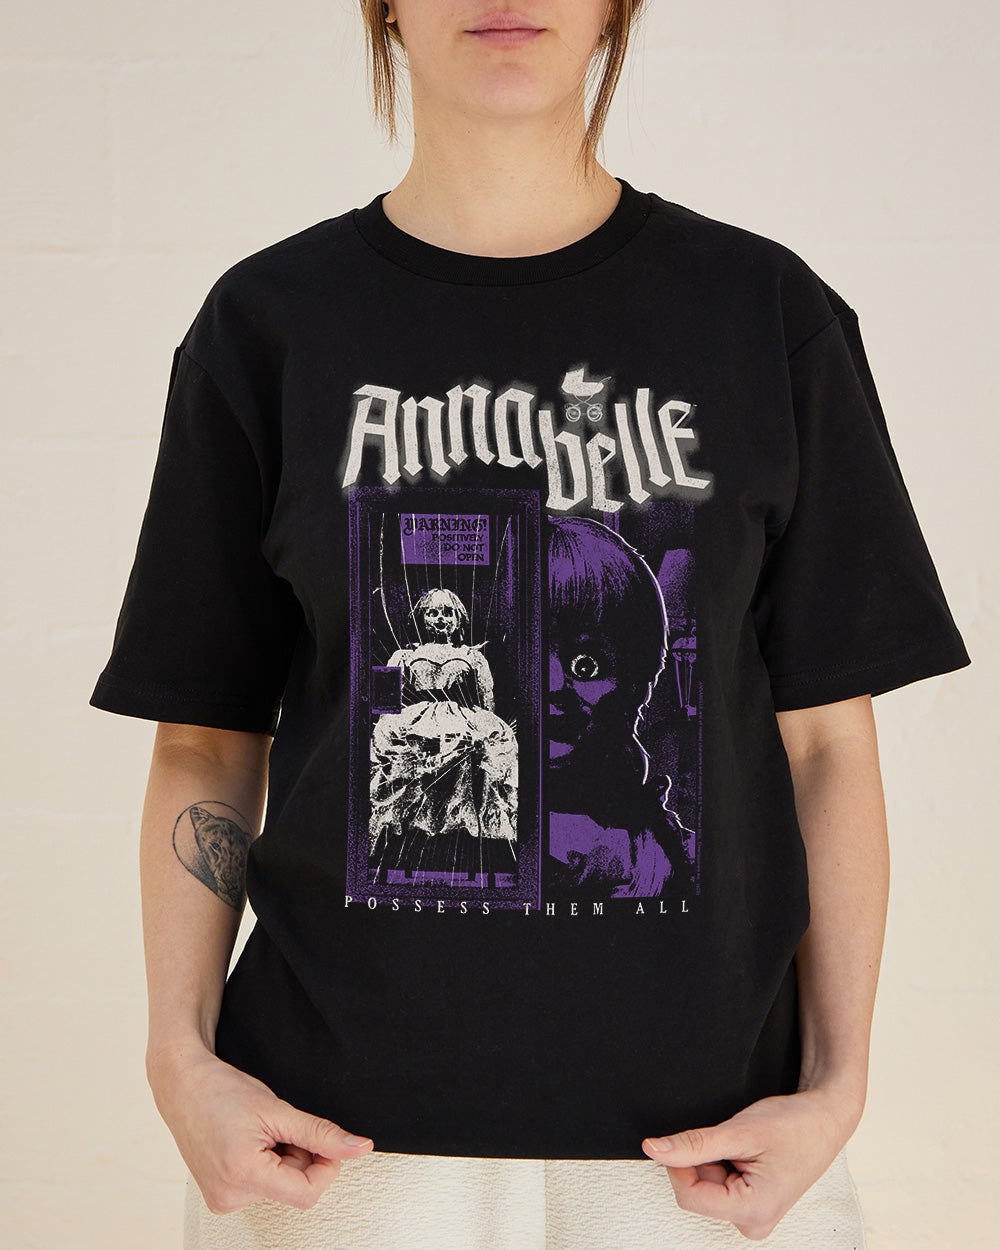design: (330, 359, 723, 924)
